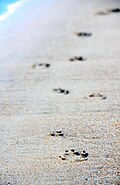human_foot_print: (59, 149, 88, 161), (85, 93, 106, 98), (47, 130, 63, 136), (53, 88, 69, 94), (69, 56, 85, 61), (76, 32, 92, 37), (32, 63, 49, 67)
